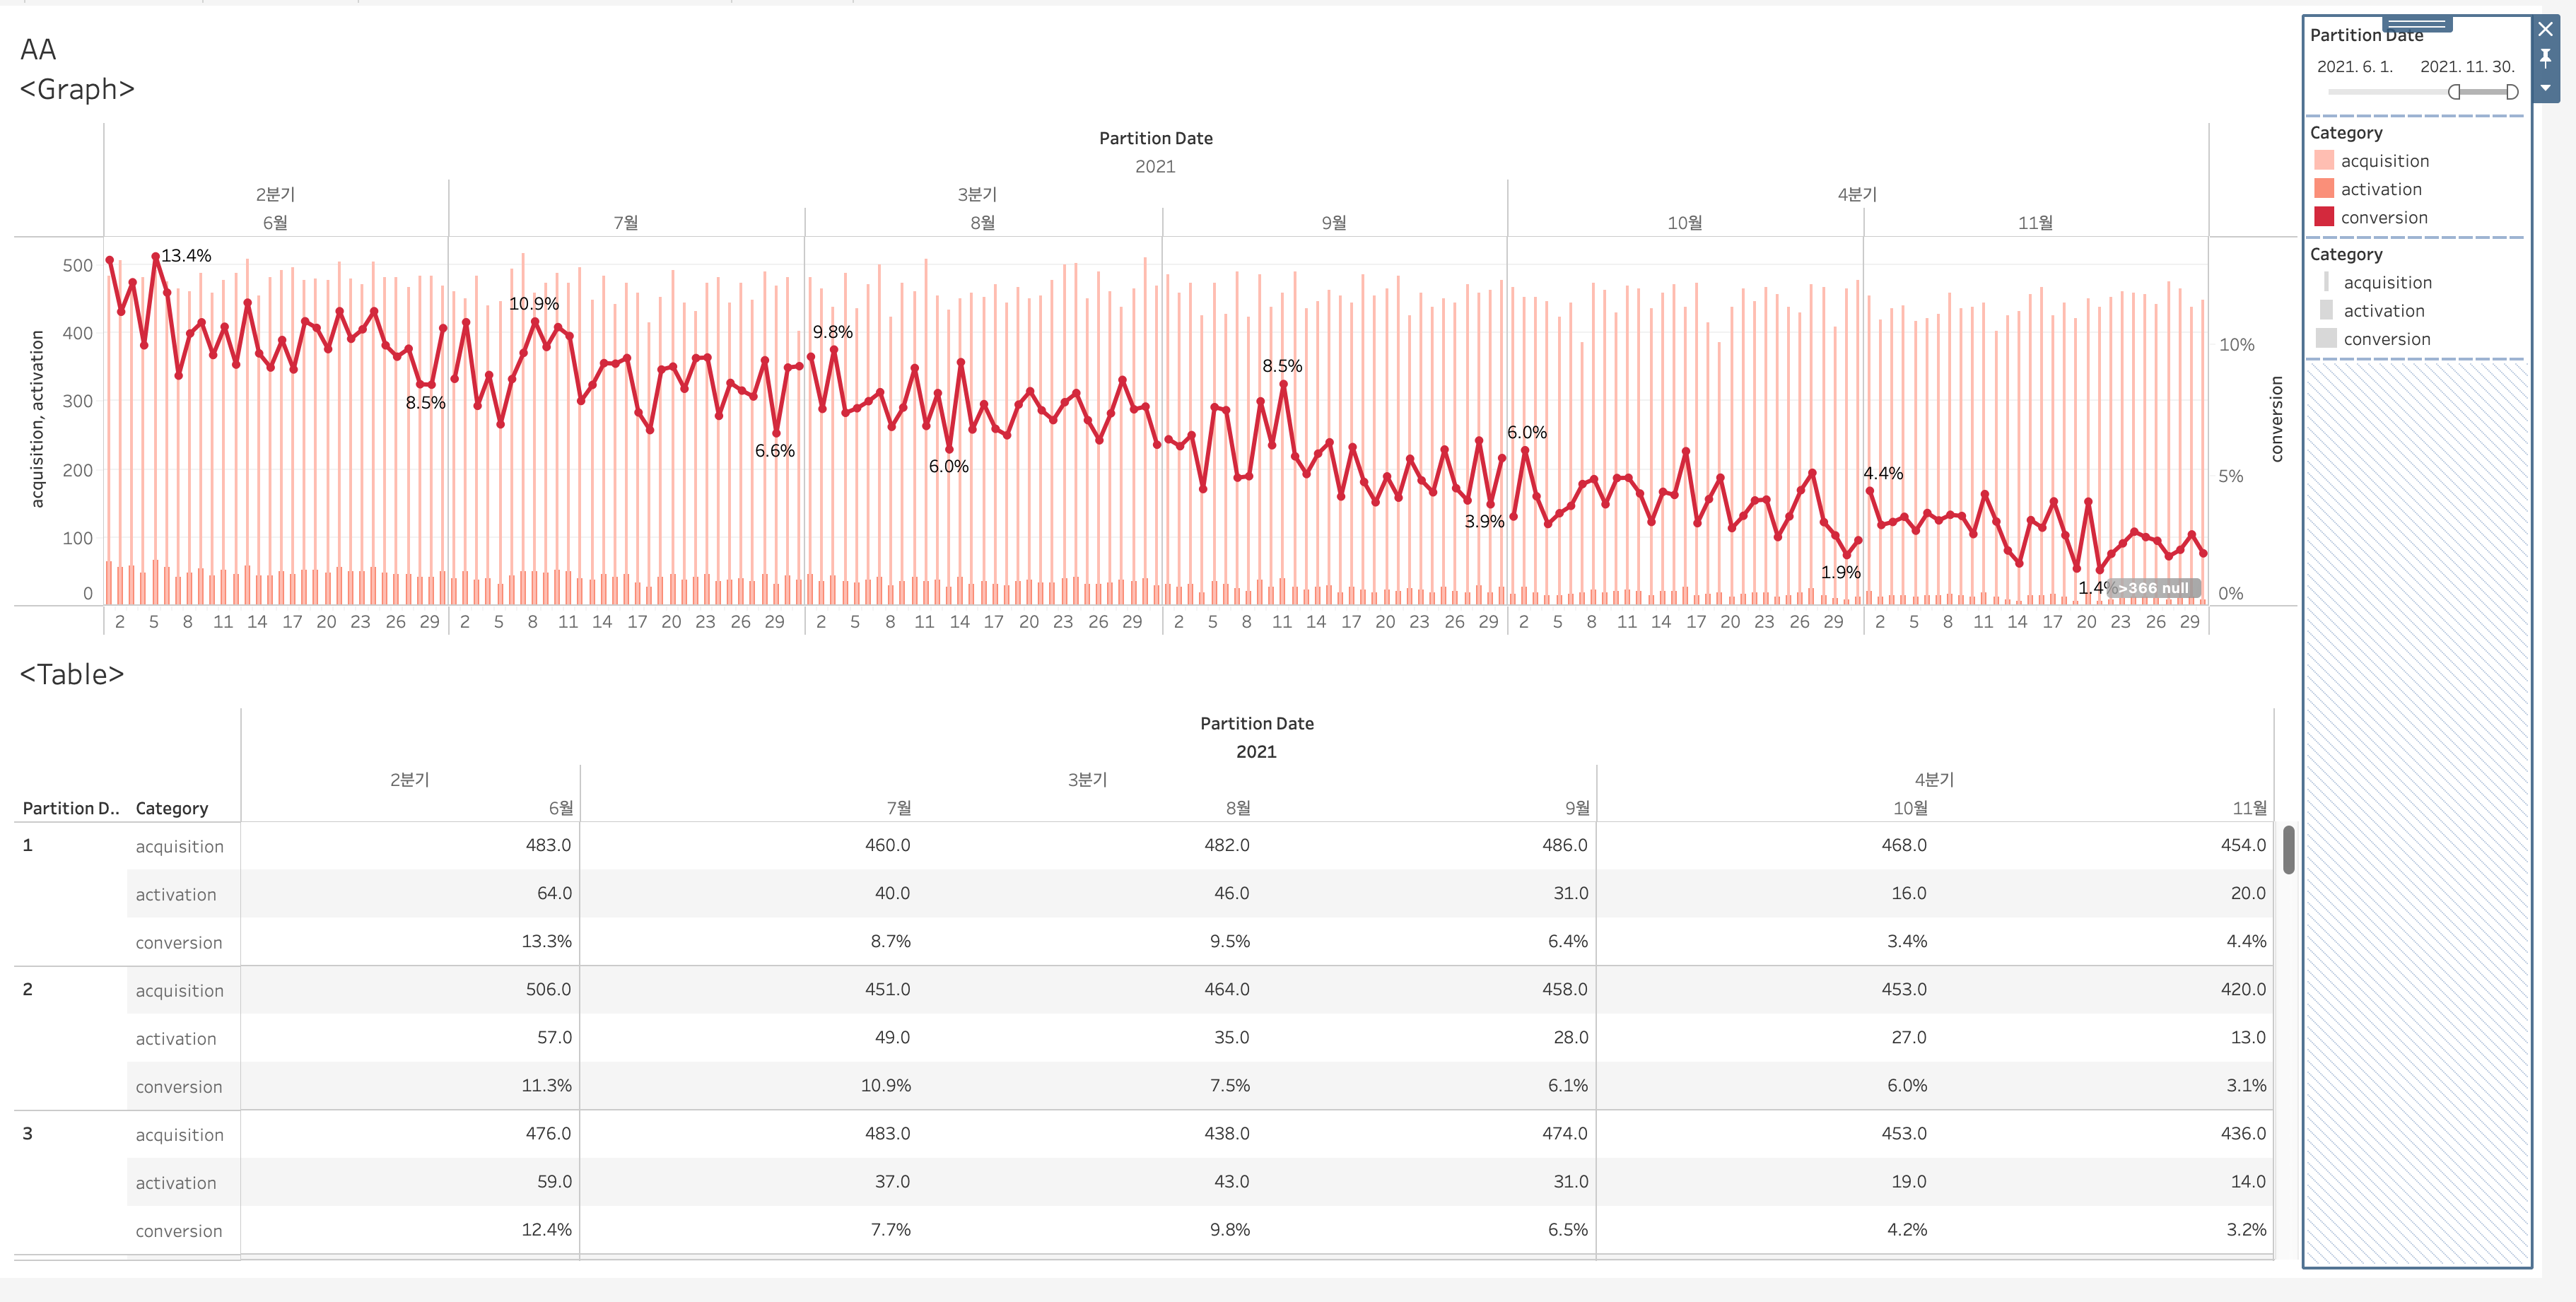

Layout of this report page (visuals, bound fields, positions):
{"tool":"tableau","page":{"name":"대시보드 2","canvas":[1000,1000],"units":"permille","ordinal":1},"visuals":[{"type":"worksheet","title":"시트 3","mark":"Square","rows":["cohort_month"],"cols":["period"],"box":[4.4,8.9,902.2,982.2]},{"type":"legend","title":"시트 3","param":"[federated.04y7xax0uj4ciy14xvisi06qd1sv].[attr:Calculation_264797605185351682:qk","box":[906.7,8.9,88.9,72.2]},{"type":"filter","title":"시트 3","param":"[federated.04y7xax0uj4ciy14xvisi06qd1sv].[none:cohort_month:nk]","box":[906.7,81.1,88.9,57.8]},{"type":"filter","title":"시트 3","param":"[federated.04y7xax0uj4ciy14xvisi06qd1sv].[none:period:ok]","box":[906.7,138.9,88.9,57.8]}]}

Visuals, with their boxes on the dashboard's canvas, which has no fixed pixel size, in thousandths of its width and height (x1, y1, x2, y2). These are canvas units, not pixel positions in the 2576x1302 screenshot, which may show the page scaled, cropped or inside an application window:
"시트 3" worksheet (Square marks): [x1=4, y1=9, x2=907, y2=991]
"시트 3" legend: [x1=907, y1=9, x2=996, y2=81]
"시트 3" filter: [x1=907, y1=81, x2=996, y2=139]
"시트 3" filter: [x1=907, y1=139, x2=996, y2=197]
